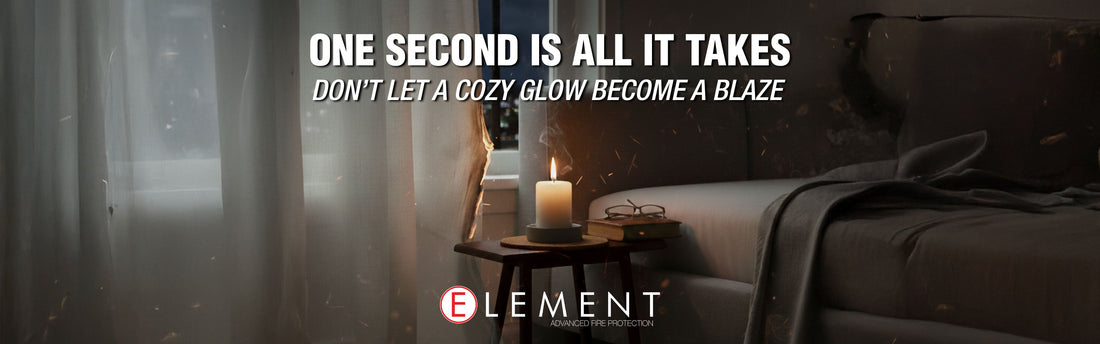Open-Flame-Hazard: (519, 146, 594, 256)
